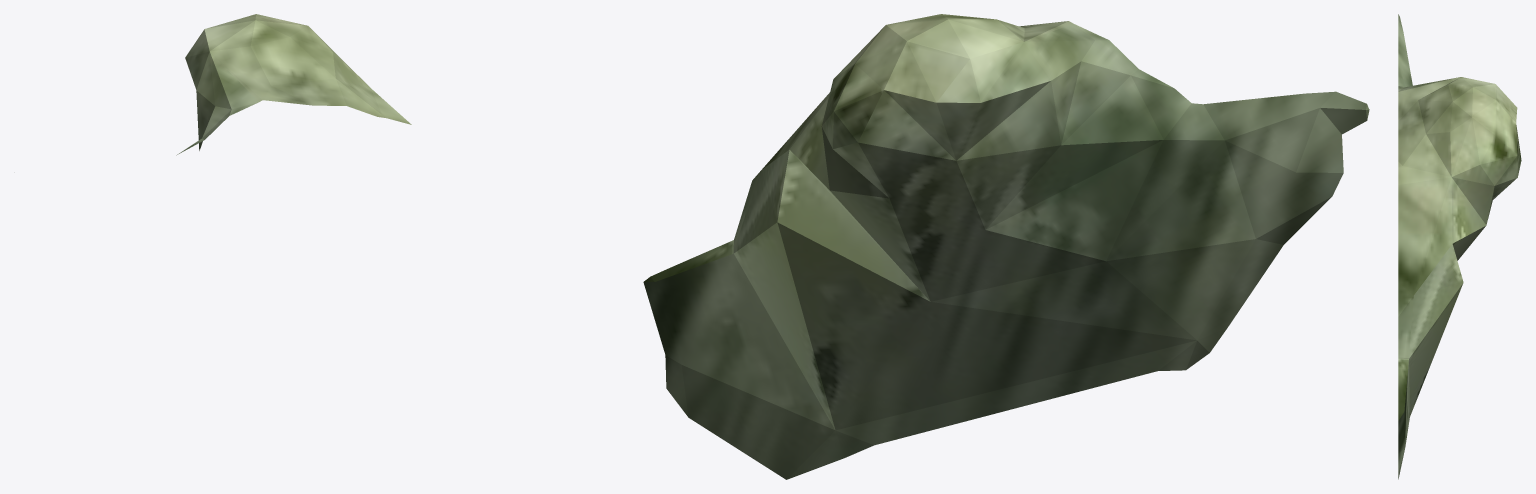
3 renders of one model, left to right at view 1: azimuth 30°, elevation 25°; view 2: azimuth 150°, elevation 25°; view 3: azimuth 270°, elevation 25°, orthographic. The views are drawn at different scales.
Bounding box in the file's own units: 1.71 × 1.26 × 0.4357.
1 material, 1 textured.
